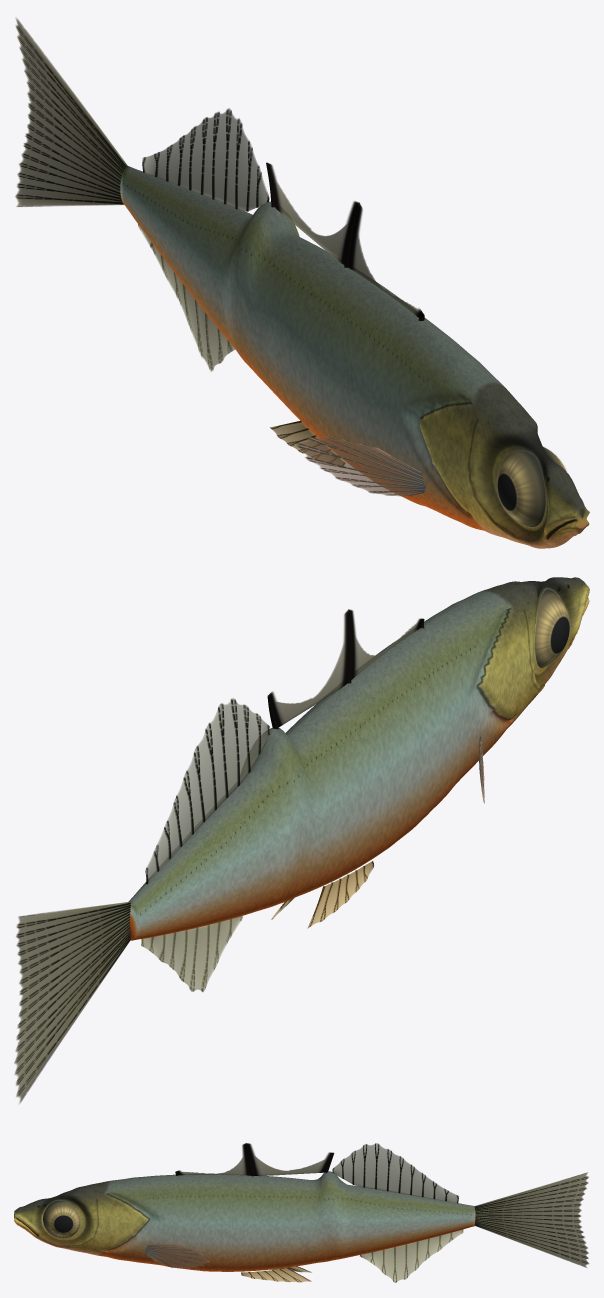
File: ciernik.glb
3 views of the same model, one above another, from view 1: azimuth 30°, elevation 25°; view 2: azimuth 150°, elevation 25°; view 3: azimuth 270°, elevation 25° (orthographic). The views are drawn at different scales.
Visible parts, largest first — view 1: Body, FinCaudal, FinDorsal2, FinPectoral, FinDorsal1, EyeLeft, FinAnal, FinPelvic; view 2: Body, FinCaudal, FinDorsal2, FinAnal, FinDorsal1, EyeLeft, FinPelvic; view 3: Body, FinCaudal, FinDorsal2, FinAnal, FinDorsal1, FinPectoral, EyeRight, FinPelvic.
Boxes of the visible parts, left/top/right/bottom form: Body: left=120, top=166, right=589, bottom=548; FinCaudal: left=15, top=18, right=127, bottom=206; FinDorsal2: left=142, top=108, right=269, bottom=211; FinPectoral: left=295, top=437, right=425, bottom=496; FinDorsal1: left=266, top=162, right=424, bottom=320; EyeLeft: left=497, top=451, right=545, bottom=526; FinAnal: left=138, top=224, right=235, bottom=371; FinPelvic: left=270, top=420, right=345, bottom=465; Body: left=128, top=577, right=589, bottom=940; FinCaudal: left=14, top=902, right=130, bottom=1103; FinDorsal2: left=145, top=698, right=269, bottom=884; FinAnal: left=141, top=916, right=242, bottom=991; FinDorsal1: left=267, top=609, right=424, bottom=729; EyeLeft: left=535, top=589, right=569, bottom=667; FinPelvic: left=271, top=861, right=374, bottom=928; Body: left=14, top=1171, right=475, bottom=1271; FinCaudal: left=474, top=1172, right=589, bottom=1267; FinDorsal2: left=332, top=1143, right=458, bottom=1203; FinAnal: left=360, top=1229, right=463, bottom=1282; FinDorsal1: left=175, top=1143, right=334, bottom=1176; FinPectoral: left=145, top=1243, right=209, bottom=1268; EyeRight: left=43, top=1200, right=80, bottom=1238; FinPelvic: left=241, top=1266, right=311, bottom=1282.
Size of the model in its own units: 0.193 by 0.2837 by 1.
Materials: 9 (8 with a texture image).
